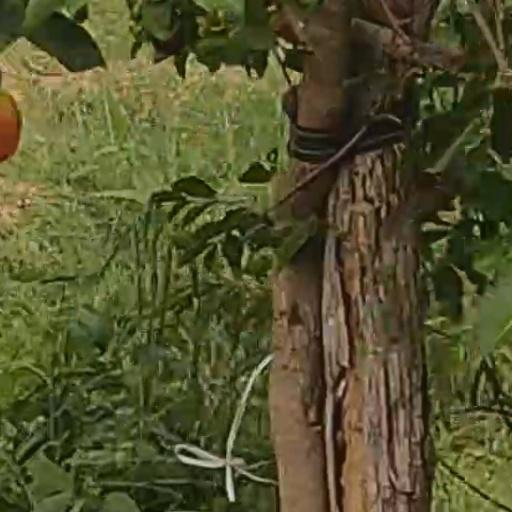acerola_vermelha: (1, 98, 21, 161)
